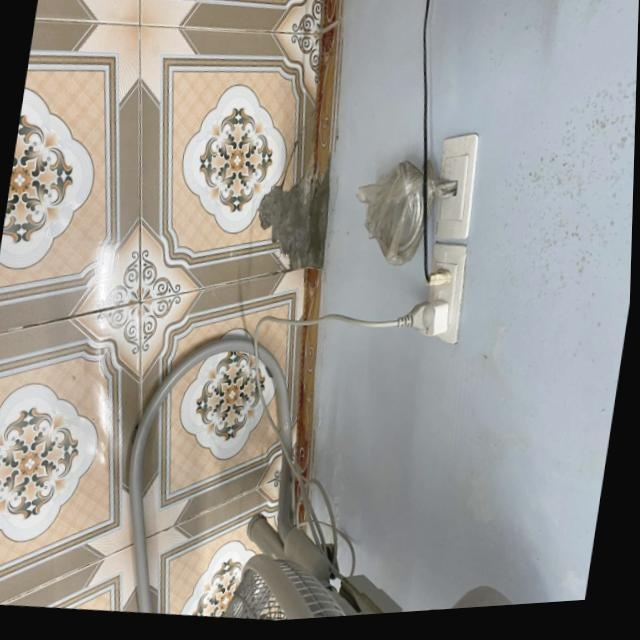outlet: (426, 128, 483, 243), (416, 239, 470, 346)
